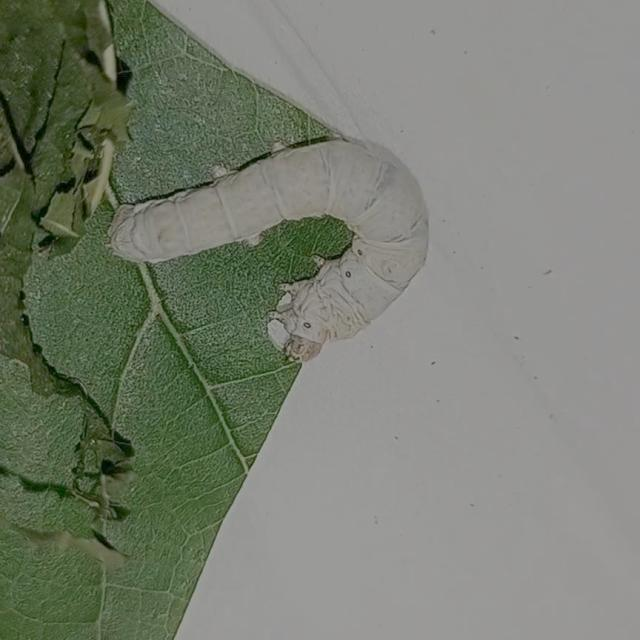Healthy: (95, 110, 451, 379)
